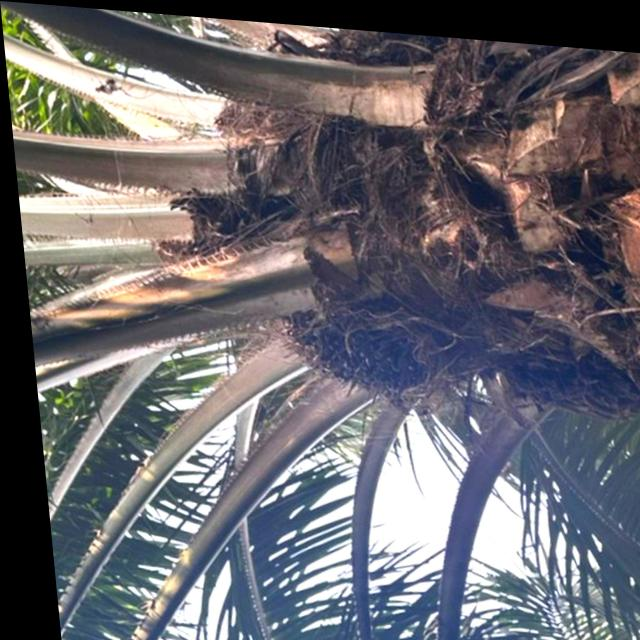unripe: (265, 271, 452, 419)
